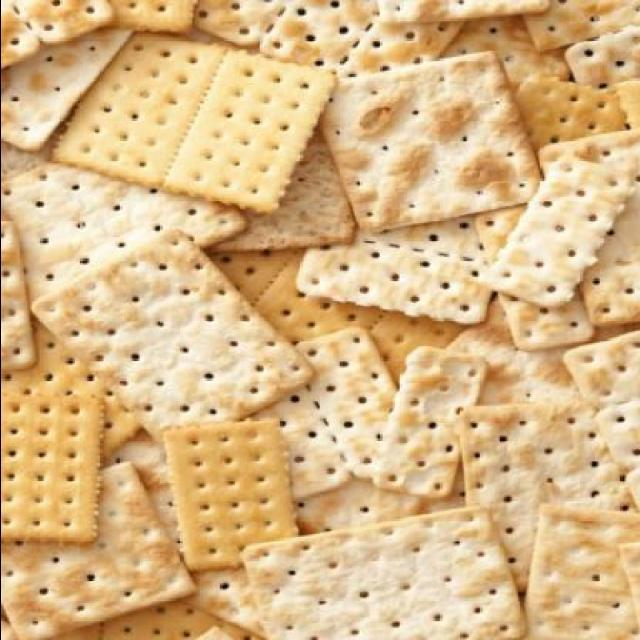Cracker packaged: (34, 230, 328, 444), (68, 27, 332, 205), (243, 498, 537, 640), (332, 50, 518, 242), (167, 414, 299, 578)
